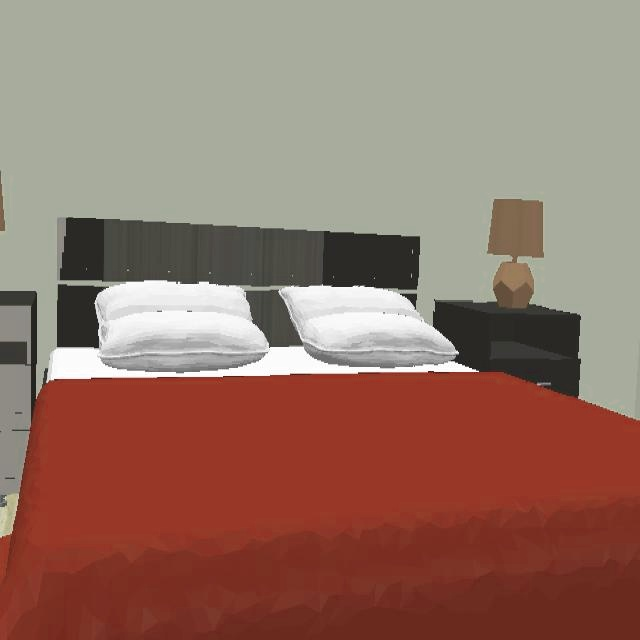bed: (0, 218, 640, 639)
lamp: (487, 200, 546, 310)
nighttable: (434, 302, 582, 396), (0, 290, 42, 538)
pillow: (94, 283, 270, 377), (278, 286, 461, 367)
